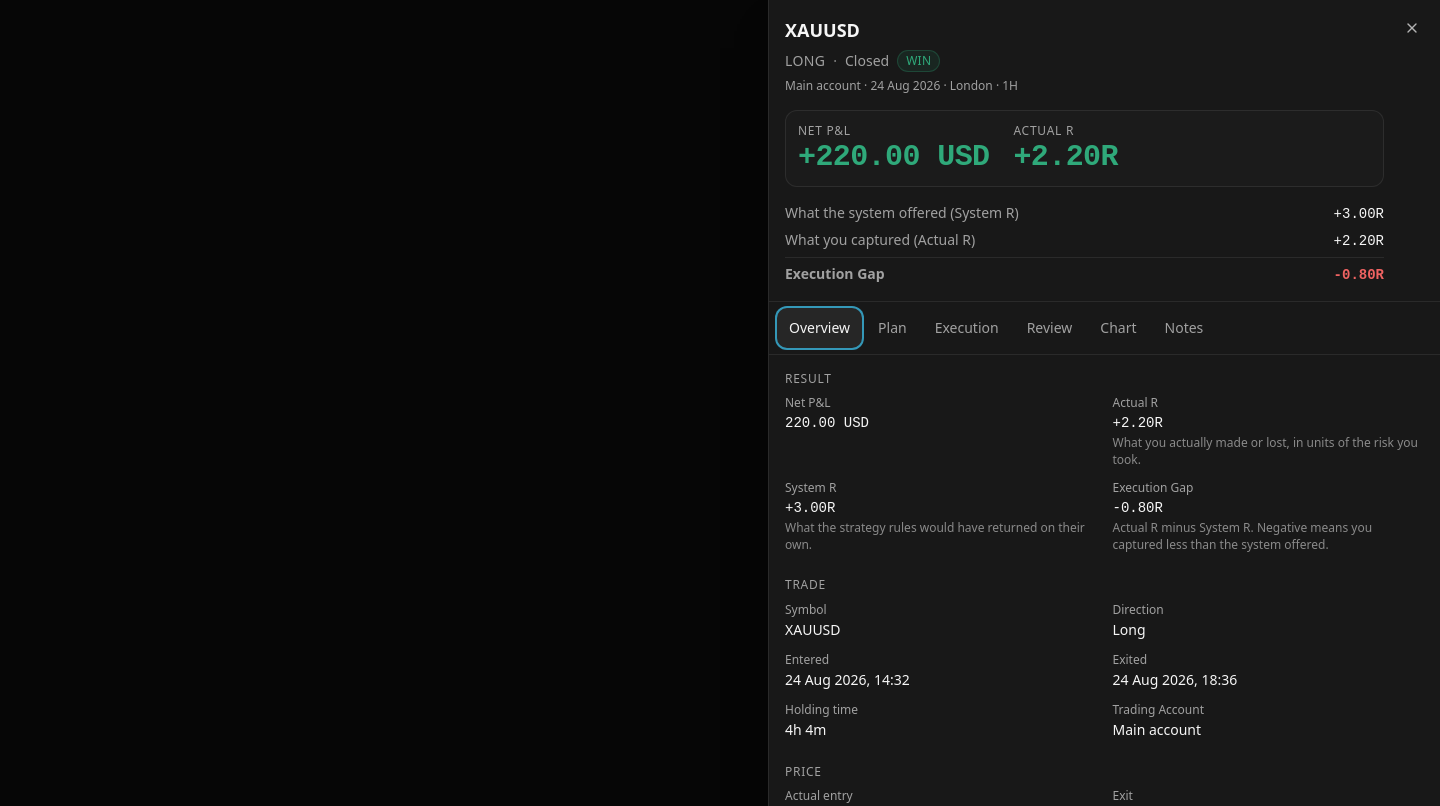
Scenario: Trade Details — Plan and Confidence › shows Confidence with the product's own five-step label
Click the tab "Plan" at [892, 328], box [866, 308, 919, 348]
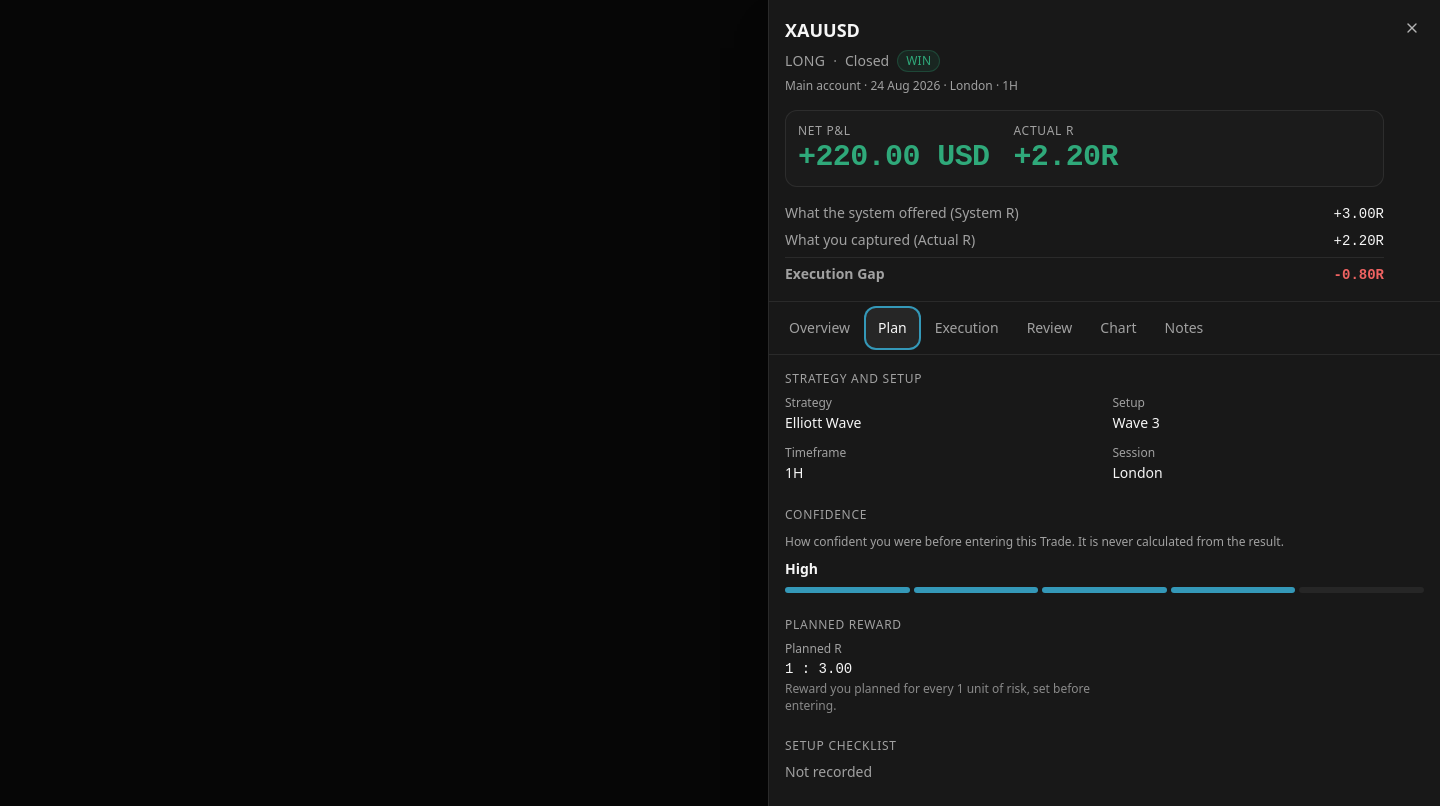
Result: the heading "Confidence" is shown at [785, 506, 867, 523]
Result: the text "High" is shown at [785, 559, 818, 578]
